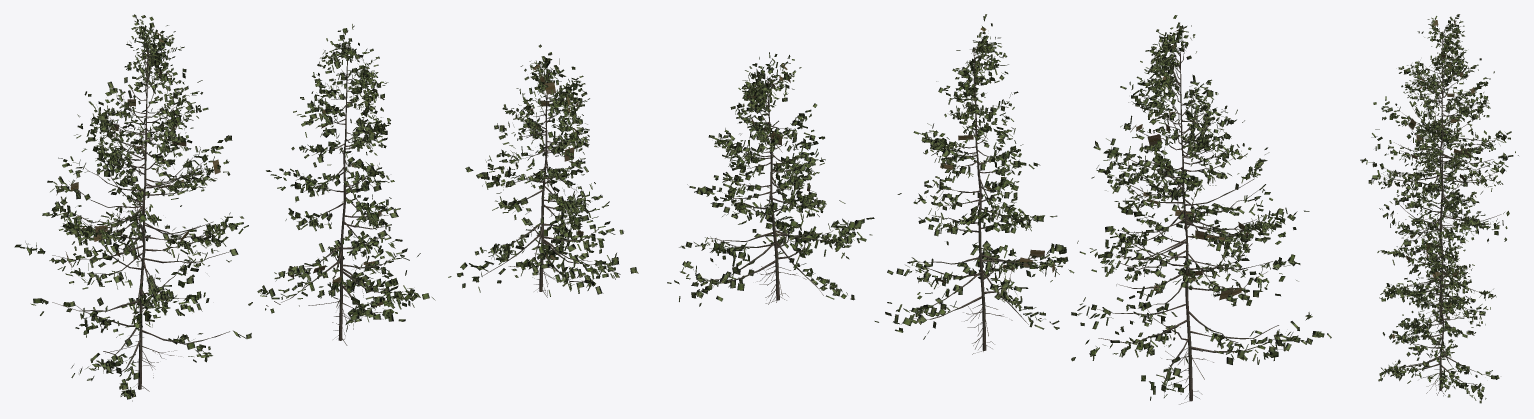
The model's file is fir_sapling_medium.glb.
The picture shows the model from 3 angles, left to right: view 1: azimuth 30°, elevation 25°; view 2: azimuth 150°, elevation 25°; view 3: azimuth 270°, elevation 25°; orthographic projection. The views are drawn at different scales.
Visible parts, largest first — view 1: fir_sapling_medium_a_LOD0.002, fir_sapling_medium_b_LOD0.002, fir_sapling_medium_c_LOD0.002, fir_sapling_medium_a_LOD0.001, fir_sapling_medium_b_LOD0.001, fir_sapling_medium_c_LOD0.001; view 2: fir_sapling_medium_a_LOD0.002, fir_sapling_medium_b_LOD0.002, fir_sapling_medium_c_LOD0.002, fir_sapling_medium_a_LOD0.001, fir_sapling_medium_b_LOD0.001, fir_sapling_medium_c_LOD0.001; view 3: fir_sapling_medium_a_LOD0.002, fir_sapling_medium_c_LOD0.002, fir_sapling_medium_b_LOD0.002, fir_sapling_medium_a_LOD0.001, fir_sapling_medium_c_LOD0.001, fir_sapling_medium_b_LOD0.001.
Boxes of the visible parts, x1,y1,x2,y2 form: fir_sapling_medium_a_LOD0.002: (14,14,251,401); fir_sapling_medium_b_LOD0.002: (248,24,435,331); fir_sapling_medium_c_LOD0.002: (448,44,638,296); fir_sapling_medium_a_LOD0.001: (52,39,229,389); fir_sapling_medium_b_LOD0.001: (281,45,397,340); fir_sapling_medium_c_LOD0.001: (482,72,598,291); fir_sapling_medium_a_LOD0.002: (1071,15,1331,400); fir_sapling_medium_b_LOD0.002: (874,14,1078,339); fir_sapling_medium_c_LOD0.002: (667,52,874,306); fir_sapling_medium_a_LOD0.001: (1094,47,1278,401); fir_sapling_medium_b_LOD0.001: (913,47,1039,350); fir_sapling_medium_c_LOD0.001: (705,76,833,300); fir_sapling_medium_a_LOD0.002: (1360,14,1518,253); fir_sapling_medium_c_LOD0.002: (1378,226,1499,403); fir_sapling_medium_b_LOD0.002: (1377,109,1496,325); fir_sapling_medium_a_LOD0.001: (1385,29,1501,257); fir_sapling_medium_c_LOD0.001: (1398,247,1485,390); fir_sapling_medium_b_LOD0.001: (1402,127,1479,324).
Bounding box in the file's own units: 14.78 × 8.82 × 5.06.
Materials: 3 (3 with a texture image).
